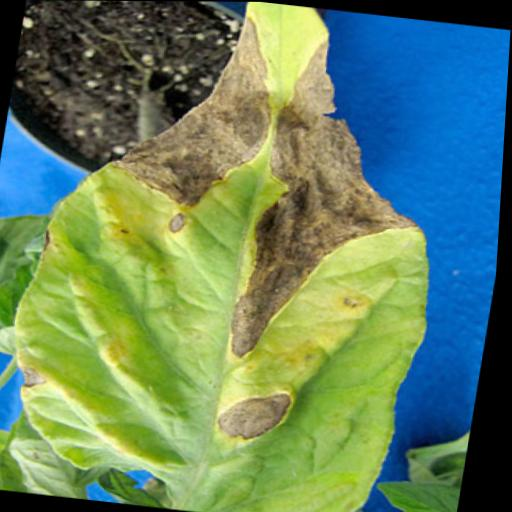Late Blight: (0, 0, 476, 512)
